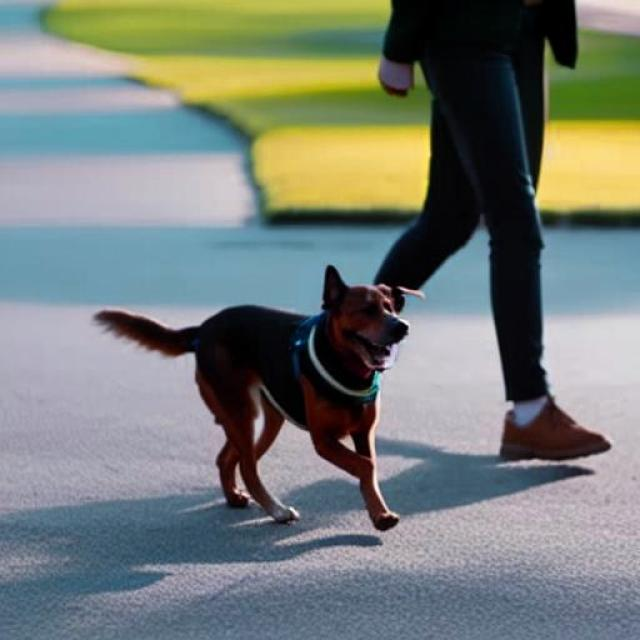Unleashed_Dog: (92, 8, 556, 533)
